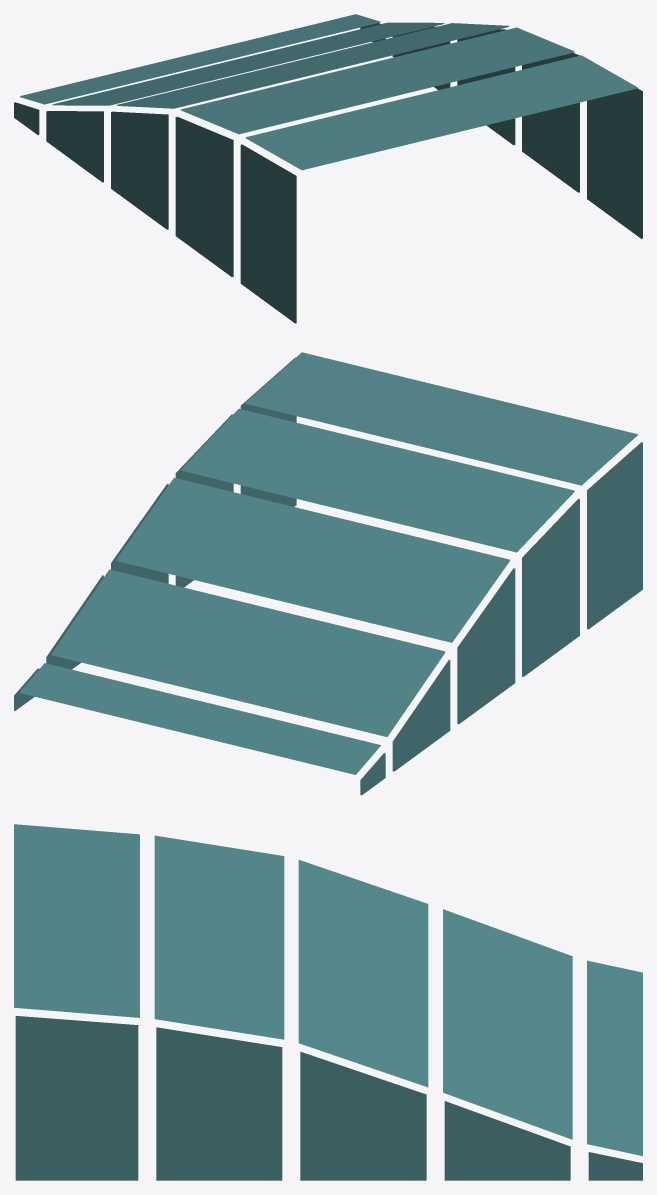
The model's file is SW_ENV_StreetEntrance_02_Glass.fbx.
The picture shows the model from 3 angles, top to bottom: view 1: azimuth 30°, elevation 25°; view 2: azimuth 150°, elevation 25°; view 3: azimuth 270°, elevation 25°; orthographic projection. The views are drawn at different scales.
Parts seen in each view (by area): view 1: SW_ENV_StreetEntrance_02_Glass; view 2: SW_ENV_StreetEntrance_02_Glass; view 3: SW_ENV_StreetEntrance_02_Glass.
Part boxes in pixels (<box>): SW_ENV_StreetEntrance_02_Glass: <box>14,14,642,323</box>; SW_ENV_StreetEntrance_02_Glass: <box>14,352,642,795</box>; SW_ENV_StreetEntrance_02_Glass: <box>14,824,642,1180</box>.
Bounding box in the file's own units: 6.2 × 2.62 × 8.73.
